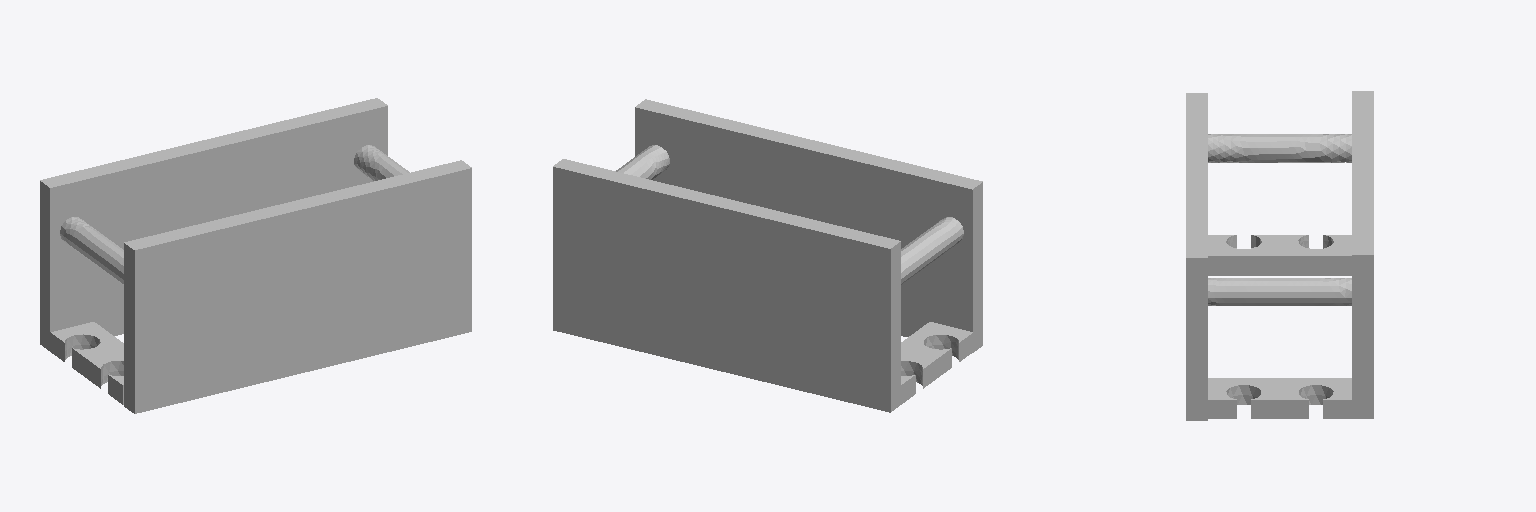
Rendered from servo_bracket.obj.
3 renders of one model, left to right at view 1: azimuth 30°, elevation 25°; view 2: azimuth 150°, elevation 25°; view 3: azimuth 270°, elevation 25°, orthographic.
Size of the model in its own units: 54.17 by 25.26 by 26.